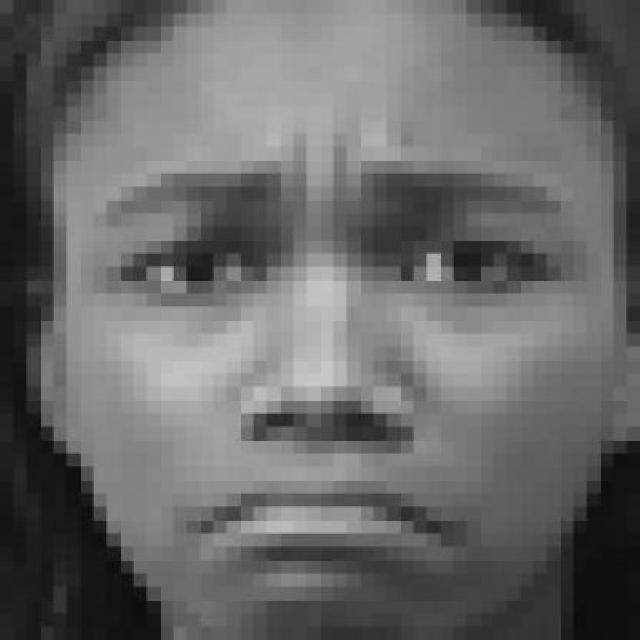sadness: (0, 0, 638, 624)
